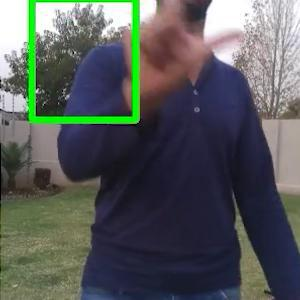land_hand: (113, 0, 251, 118)
